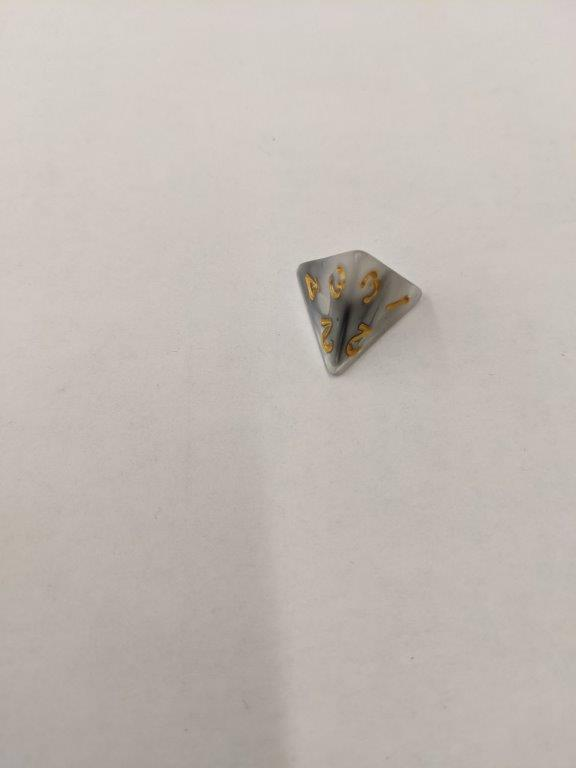d4-3: (290, 248, 423, 378)
